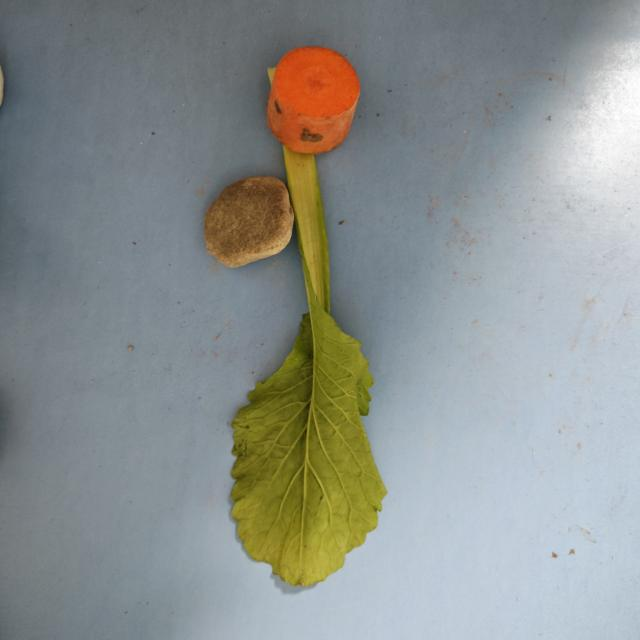-Kitchen waste - carrot-: (266, 44, 360, 147)
-Kitchen waste - vegetable roots and leaves-: (234, 141, 384, 589)
-Other waste - pebble-: (202, 175, 295, 264)
